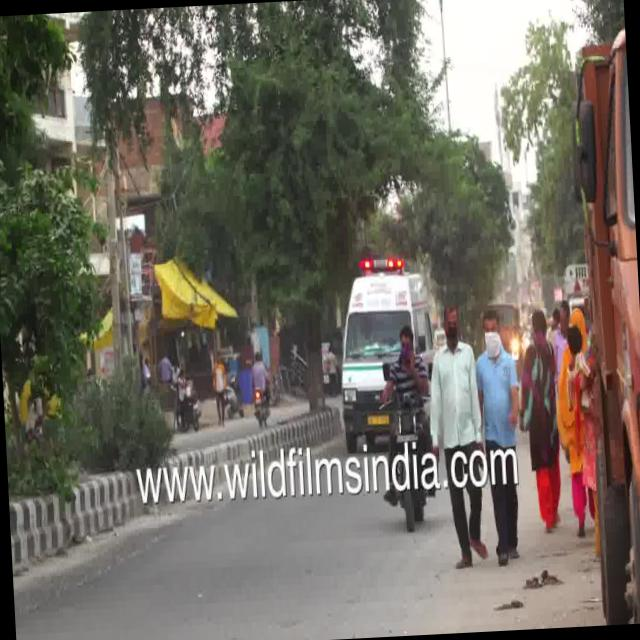ambulance: (319, 237, 442, 463)
